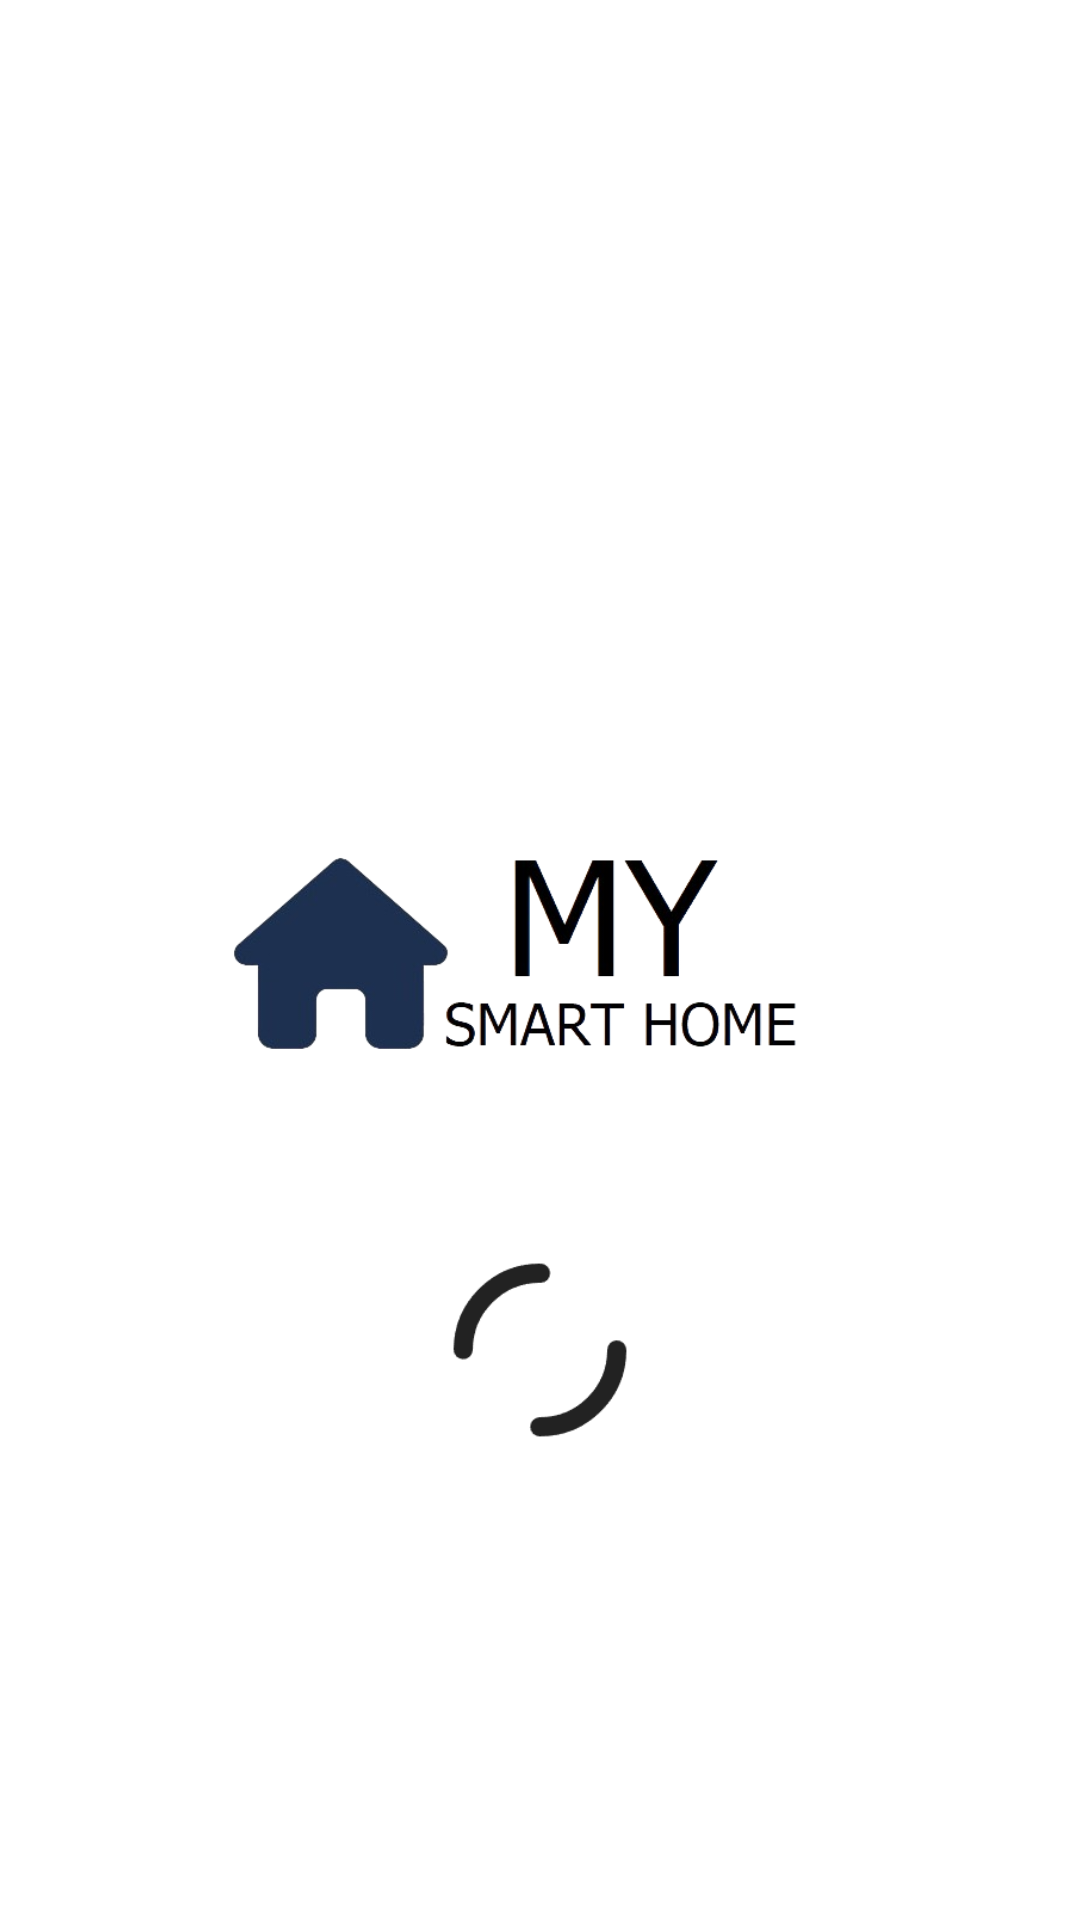

Where to tap for icons on this 1080×1920 app screen, as (x=x, y=y):
loading spinner: (x=540, y=1350)
